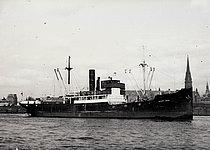Ship: (18, 52, 197, 123)
